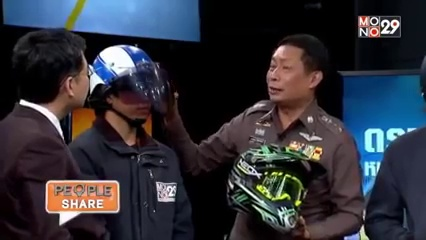helmet: (223, 138, 323, 228), (87, 43, 171, 113)
